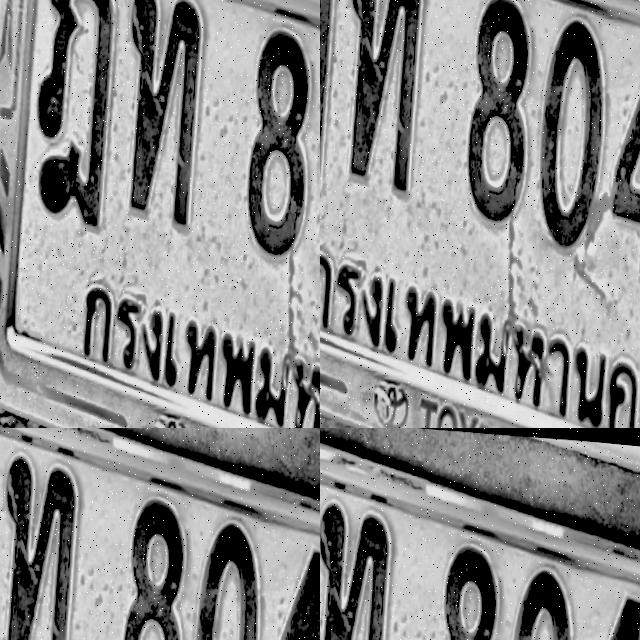license-plate: (320, 428, 640, 640)
